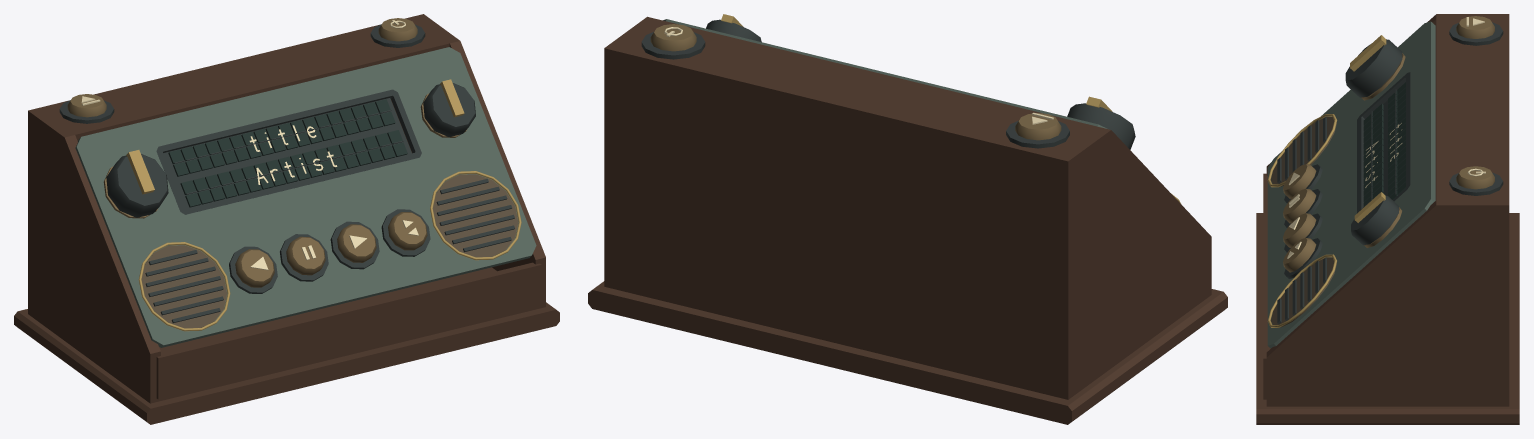
Rendered from Aestrin-radio.glb.
3 renders of one model, left to right at view 1: azimuth 30°, elevation 25°; view 2: azimuth 150°, elevation 25°; view 3: azimuth 270°, elevation 25°, orthographic. The views are drawn at different scales.
Visible parts, largest first — view 1: Sloped control deck — complete assembly, Sloped hollow chassis — sides / back / bottom, Lower front fascia, Base and feet, Readout Frame frame, Left integrated speaker cloth, Right integrated speaker cloth, Split-leaf mechanism shadow recess, Master vol — rotary control, Speaker opening — brass lip (×2), Local vol — rotary control, Shuffle — button (+12 smaller); view 2: Sloped hollow chassis — sides / back / bottom, Base and feet, Sloped control deck — complete assembly, Master vol — rotary control, Power — push button, Source — push button, Power — bezel, Source — socket; view 3: Sloped hollow chassis — sides / back / bottom, Sloped control deck — complete assembly, Base and feet, Master vol — rotary control, Readout Frame frame, Local vol — rotary control, Right integrated speaker cloth, Speaker opening — brass lip (×2), Left integrated speaker cloth, Lower front fascia, Tuning index mark (×2), Power — push button (+10 smaller).
Part boxes in pixels (<box>): Sloped control deck — complete assembly: <box>75,47,536,347</box>; Sloped hollow chassis — sides / back / bottom: <box>28,14,545,403</box>; Lower front fascia: <box>156,262,541,399</box>; Base and feet: <box>14,302,559,424</box>; Readout Frame frame: <box>156,89,421,214</box>; Left integrated speaker cloth: <box>141,245,226,328</box>; Right integrated speaker cloth: <box>433,174,518,257</box>; Split-leaf mechanism shadow recess: <box>163,98,411,208</box>; Master vol — rotary control: <box>106,154,168,217</box>; Speaker opening — brass lip (×2): <box>138,171,521,331</box>; Local vol — rotary control: <box>423,83,475,137</box>; Shuffle — button: <box>388,212,427,250</box>; Sloped hollow chassis — sides / back / bottom: <box>604,16,1211,399</box>; Base and feet: <box>588,281,1227,424</box>; Sloped control deck — complete assembly: <box>663,19,1107,128</box>; Master vol — rotary control: <box>1067,103,1135,149</box>; Power — push button: <box>650,24,696,51</box>; Source — push button: <box>1015,113,1061,140</box>; Power — bezel: <box>641,32,705,59</box>; Source — socket: <box>1006,121,1069,148</box>; Sloped hollow chassis — sides / back / bottom: <box>1266,14,1509,406</box>; Sloped control deck — complete assembly: <box>1267,21,1435,348</box>; Base and feet: <box>1256,213,1519,424</box>; Master vol — rotary control: <box>1345,39,1402,97</box>; Readout Frame frame: <box>1357,72,1410,213</box>; Local vol — rotary control: <box>1351,196,1398,245</box>; Right integrated speaker cloth: <box>1271,257,1336,327</box>; Speaker opening — brass lip (×2): <box>1267,114,1337,327</box>; Left integrated speaker cloth: <box>1271,117,1336,186</box>; Lower front fascia: <box>1263,173,1270,399</box>; Tuning index mark (×2): <box>1350,35,1386,222</box>; Power — push button: <box>1456,166,1494,189</box>.
Bounding box in the file's own units: 0.292 × 0.1576 × 0.163.
